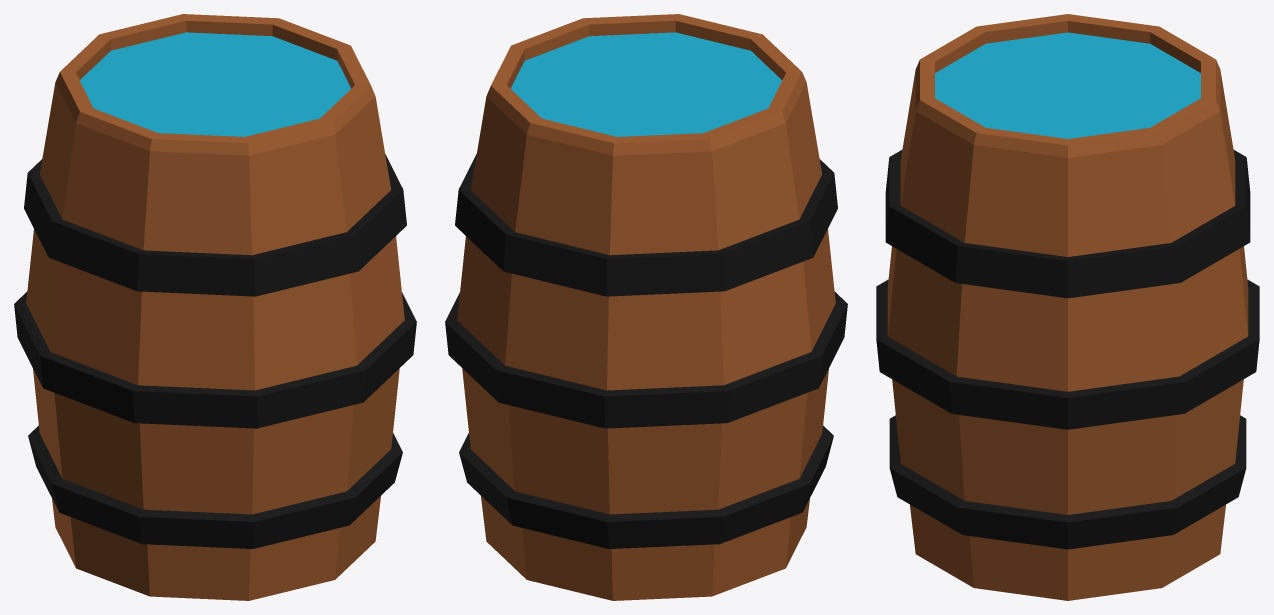
Rendered from Barel2.fbx.
3 renders of one model, left to right at view 1: azimuth 30°, elevation 25°; view 2: azimuth 150°, elevation 25°; view 3: azimuth 270°, elevation 25°, orthographic.
Visible parts, largest first — view 1: Barel2; view 2: Barel2; view 3: Barel2.
Boxes of the visible parts, x1,y1,x2,y2 form: Barel2: (14,14,416,600); Barel2: (445,14,847,600); Barel2: (876,14,1259,600).
Size of the model in its own units: 0.5347 by 0.6638 by 0.5085.
